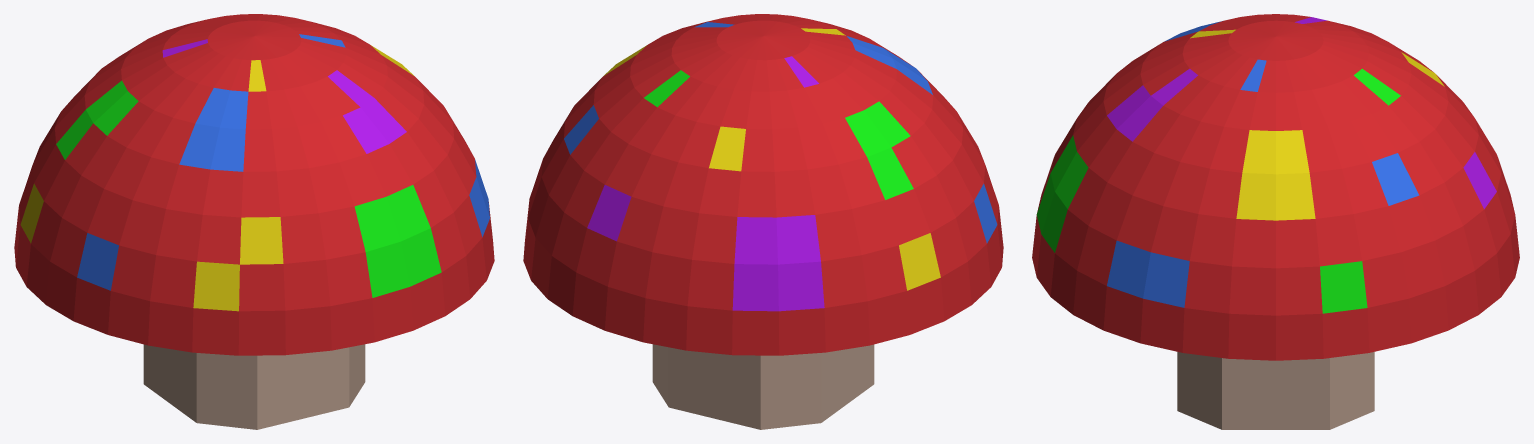
The model's file is mushroom.gltf.
The picture shows the model from 3 angles, left to right: view 1: azimuth 30°, elevation 25°; view 2: azimuth 150°, elevation 25°; view 3: azimuth 270°, elevation 25°; orthographic projection.
Visible parts, largest first — view 1: Sphere, Cube; view 2: Sphere, Cube; view 3: Sphere, Cube.
Part boxes in pixels (<box>): Sphere: <box>14,14,494,355</box>; Cube: <box>143,344,365,429</box>; Sphere: <box>523,14,1003,355</box>; Cube: <box>652,344,874,429</box>; Sphere: <box>1032,14,1519,360</box>; Cube: <box>1177,352,1374,429</box>.
Size of the model in its own units: 1.48 by 1.18 by 1.48.
